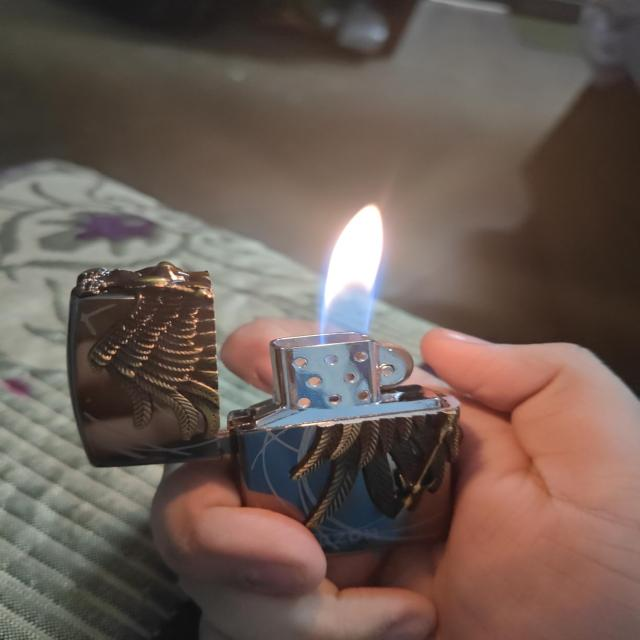fire: (317, 203, 387, 342)
